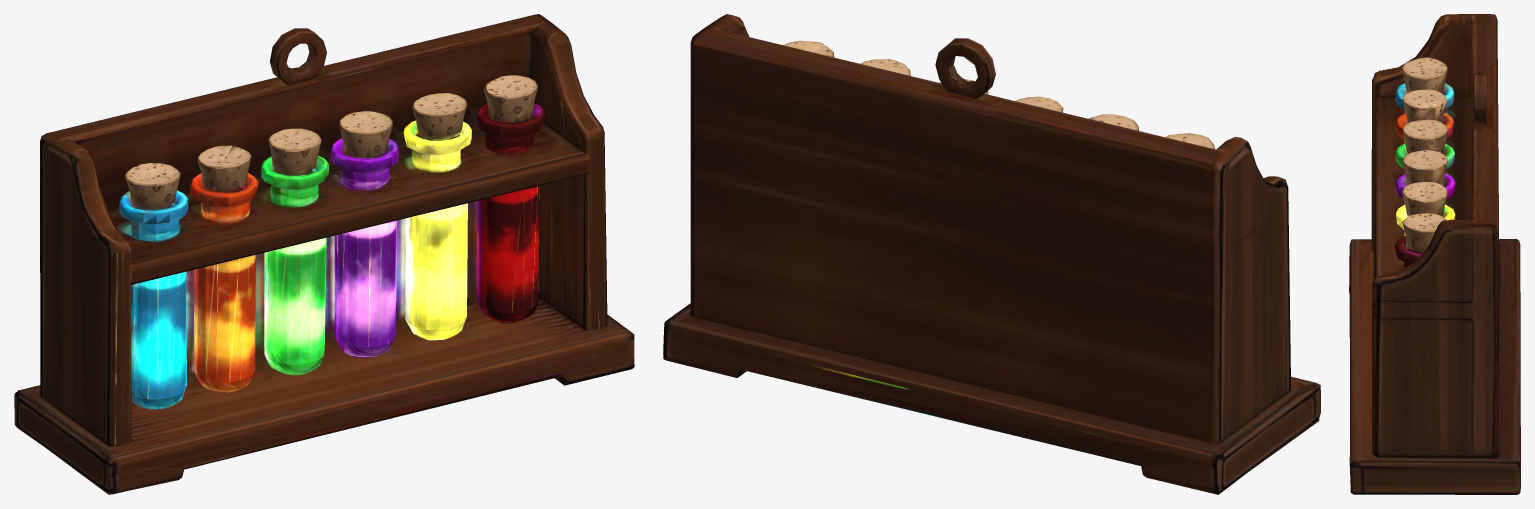
File: bottle_rack.glb
3 views of the same model, side by side, from view 1: azimuth 30°, elevation 25°; view 2: azimuth 150°, elevation 25°; view 3: azimuth 270°, elevation 25° (orthographic). The views are drawn at different scales.
Bounding box in the file's own units: 1 × 0.6387 × 0.3232.
Materials: 1 (1 with a texture image).
